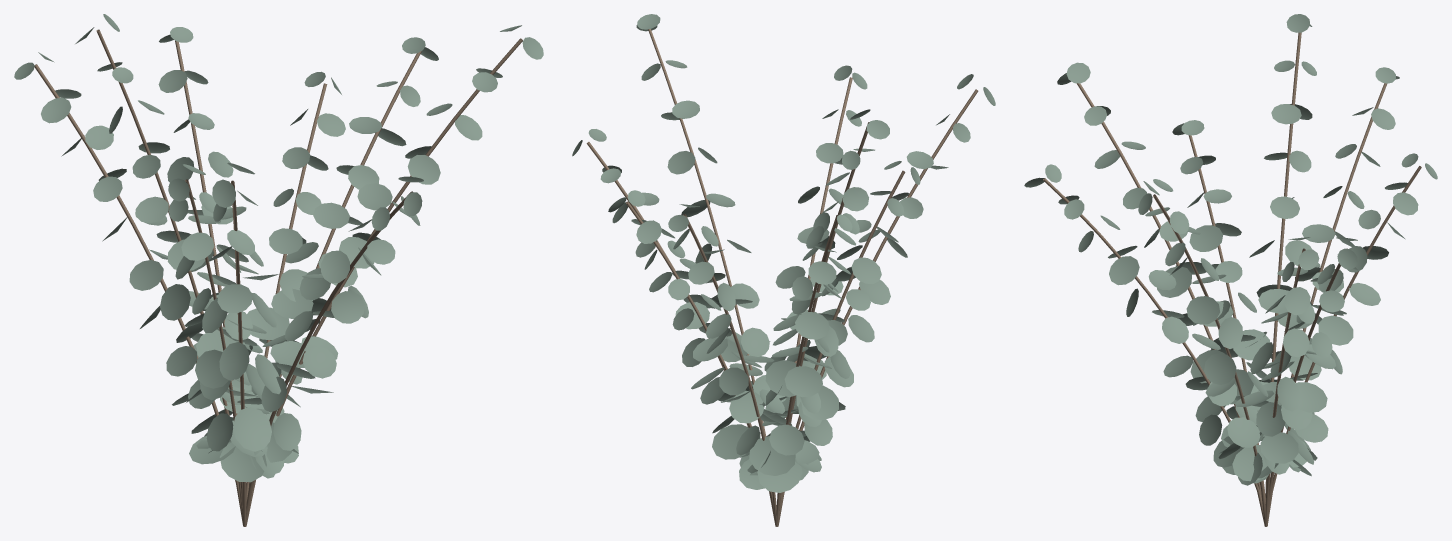
File: silver-1.glb
3 views of the same model, side by side, from view 1: azimuth 30°, elevation 25°; view 2: azimuth 150°, elevation 25°; view 3: azimuth 270°, elevation 25° (orthographic). The views are drawn at different scales.
Parts seen in each view (by area): view 1: silver-leaves, silver-stems; view 2: silver-leaves, silver-stems; view 3: silver-leaves, silver-stems.
Boxes of the visible parts, x1,y1,x2,y2 form: silver-leaves: (14,14,543,482); silver-stems: (34,29,522,526); silver-leaves: (572,14,995,492); silver-stems: (586,29,978,526); silver-leaves: (1024,14,1437,485); silver-stems: (1043,32,1421,526).
Bounding box in the file's own units: 0.5202 × 0.6733 × 0.548.
